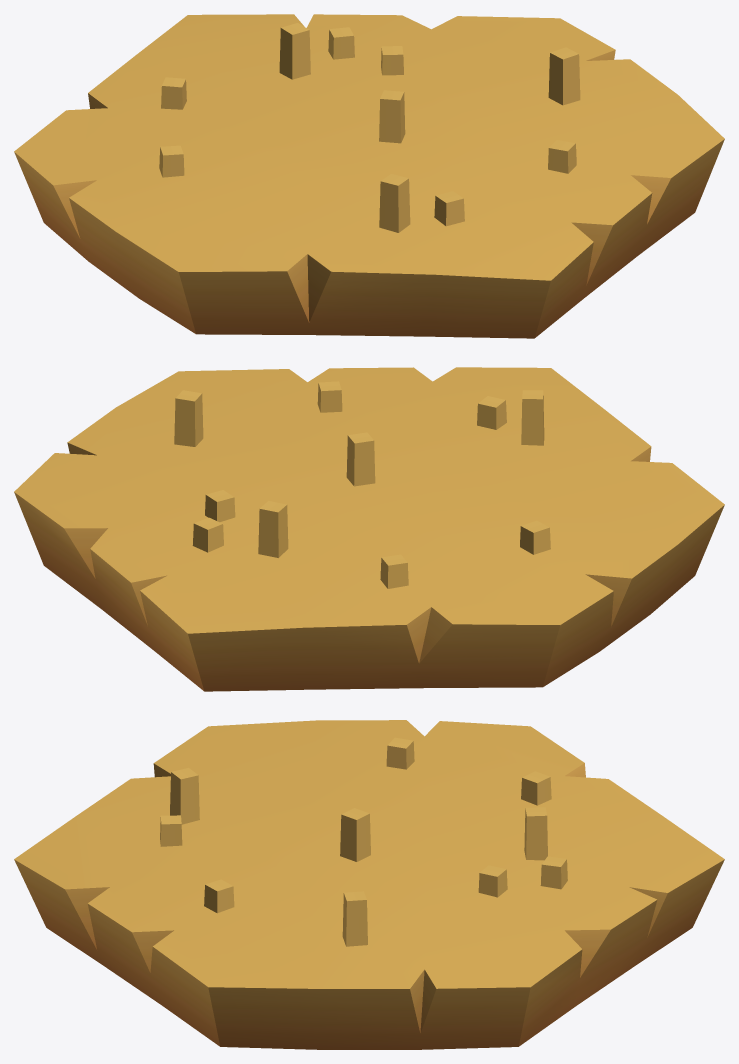
The model's file is kay-trigal.gltf.
3 renders of one model, top to bottom at view 1: azimuth 30°, elevation 25°; view 2: azimuth 150°, elevation 25°; view 3: azimuth 270°, elevation 25°, orthographic. The views are drawn at different scales.
Visible parts, largest first — view 1: building_grain; view 2: building_grain; view 3: building_grain.
Part boxes in pixels (x1,y1,x2,y2): building_grain: (14,14,724,338); building_grain: (14,367,724,691); building_grain: (14,720,724,1049).
Bounding box in the file's own units: 9.37 × 1.97 × 10.47.
1 material, 1 textured.
